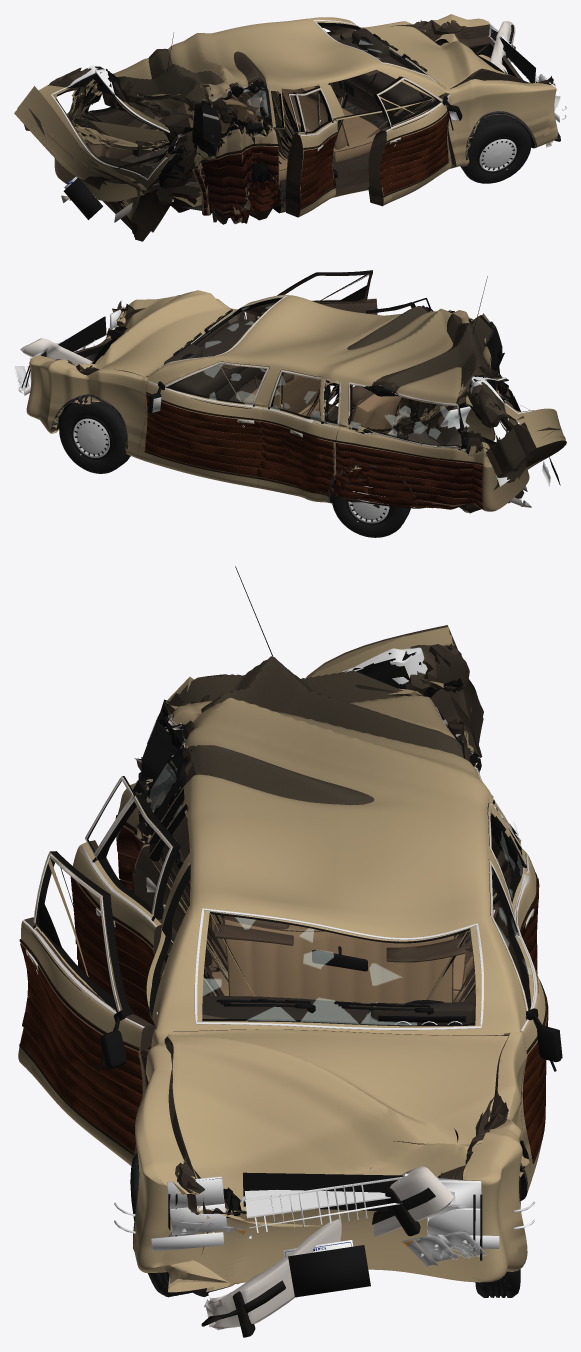
The model's file is wagon82_rear_corner_R_d3_lod1.glb.
3 renders of one model, top to bottom at view 1: azimuth 30°, elevation 25°; view 2: azimuth 150°, elevation 25°; view 3: azimuth 270°, elevation 25°, orthographic. The views are drawn at different scales.
Visible parts, largest first — view 1: Body, Tailgate, Interior, Trim, Hood, Trim_FR, Wheel_FR_mesh, Door_FR, Door_RR, Glass, Trim_RR, Ends (+3 smaller); view 2: Body, Trim, Interior, Trim_FL, Hood, Tailgate, Trim_RL, Wheel_FL_mesh, Door_FL, Door_RL, Wheel_RL_mesh, Ends (+6 smaller); view 3: Body, Hood, Interior, Ends, Trim_FR, Glass, Door_FR, Bumper_F, Tailgate, Trim_RR, Door_RR, Trim_FL (+5 smaller).
Boxes of the visible parts, x1,y1,x2,y2 form: Body: (54, 14, 557, 224); Tailgate: (14, 67, 196, 241); Interior: (86, 28, 432, 188); Trim: (77, 33, 536, 223); Hood: (366, 26, 529, 89); Trim_FR: (377, 77, 462, 197); Wheel_FR_mesh: (460, 114, 531, 183); Door_FR: (368, 76, 451, 206); Door_RR: (285, 87, 337, 217); Glass: (87, 20, 436, 156); Trim_RR: (289, 88, 337, 209); Ends: (63, 21, 566, 219); Body: (26, 294, 529, 513); Trim: (51, 276, 527, 509); Interior: (164, 318, 461, 445); Trim_FL: (144, 362, 268, 478); Hood: (75, 290, 234, 376); Tailgate: (465, 368, 566, 503); Trim_RL: (256, 370, 340, 495); Wheel_FL_mesh: (59, 400, 130, 473); Door_FL: (137, 361, 269, 487); Door_RL: (257, 369, 340, 502); Wheel_RL_mesh: (332, 470, 410, 537); Ends: (15, 306, 560, 486); Body: (116, 656, 535, 1296); Hood: (164, 1029, 508, 1210); Interior: (202, 913, 475, 1024); Ends: (114, 1172, 534, 1297); Trim_FR: (19, 853, 157, 1155); Glass: (133, 699, 518, 1030); Door_FR: (18, 851, 156, 1165); Bumper_F: (201, 1166, 453, 1337); Tailgate: (305, 625, 483, 757); Trim_RR: (70, 776, 172, 1026); Door_RR: (73, 794, 180, 984); Trim_FL: (489, 860, 562, 1163).
Bounding box in the file's own units: 4.95 × 2.03 × 2.34.
34 materials, 6 textured.
